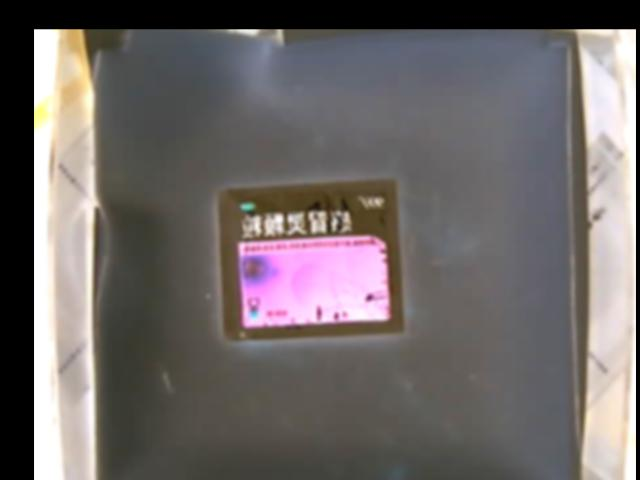Medicine: (219, 177, 403, 342)
